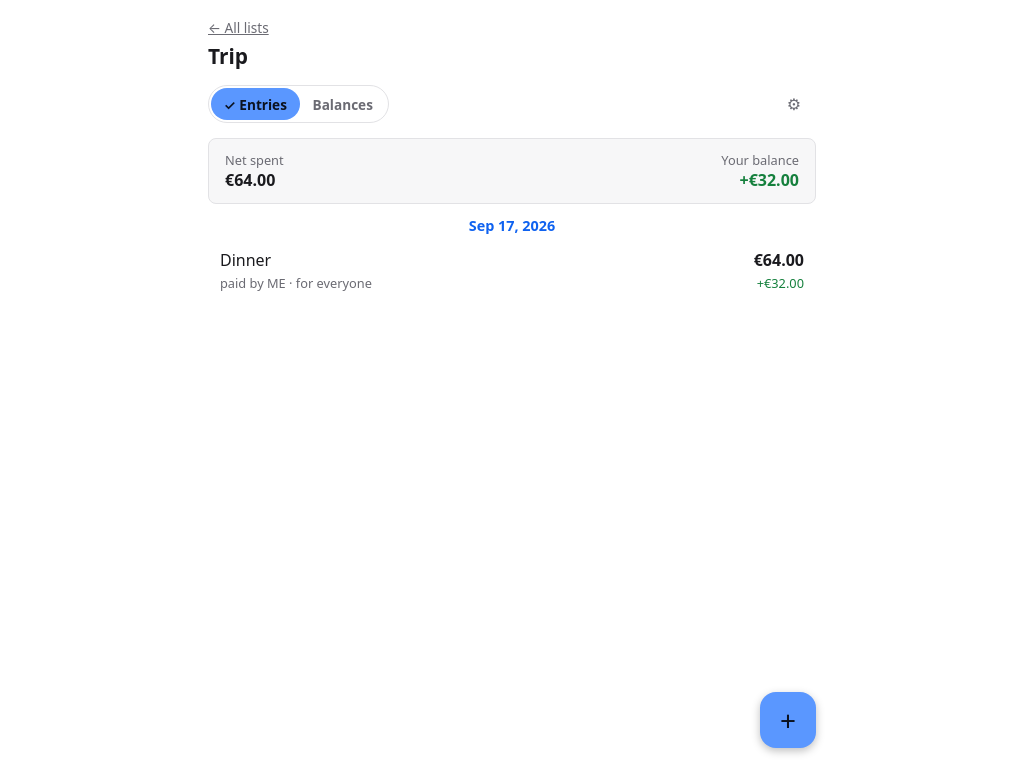
Test: expense list screen › refuses a fully typed split that misses the total, and offers to use the sum
Click the button named "Add entry" at (788, 720), box [760,692,816,748]
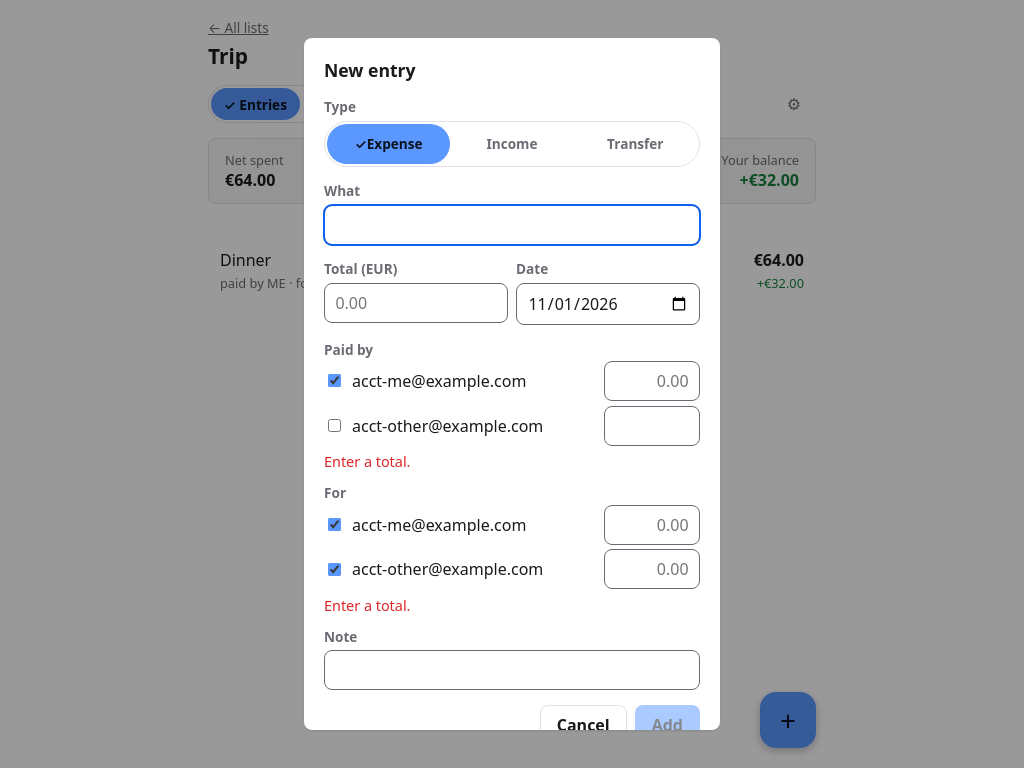
Type "Groceries" into the field labelled "What" at (512, 225), box [324,205,700,245]
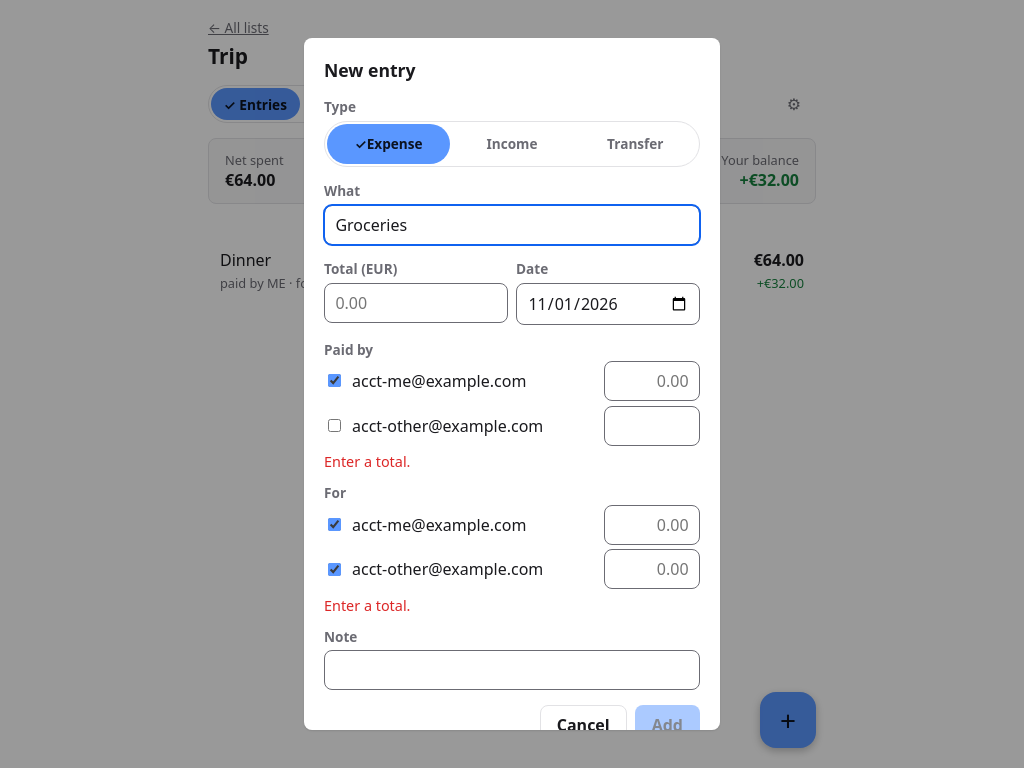
Type "60.00" into the field labelled "Total (EUR)" at (416, 303), box [324,283,508,323]
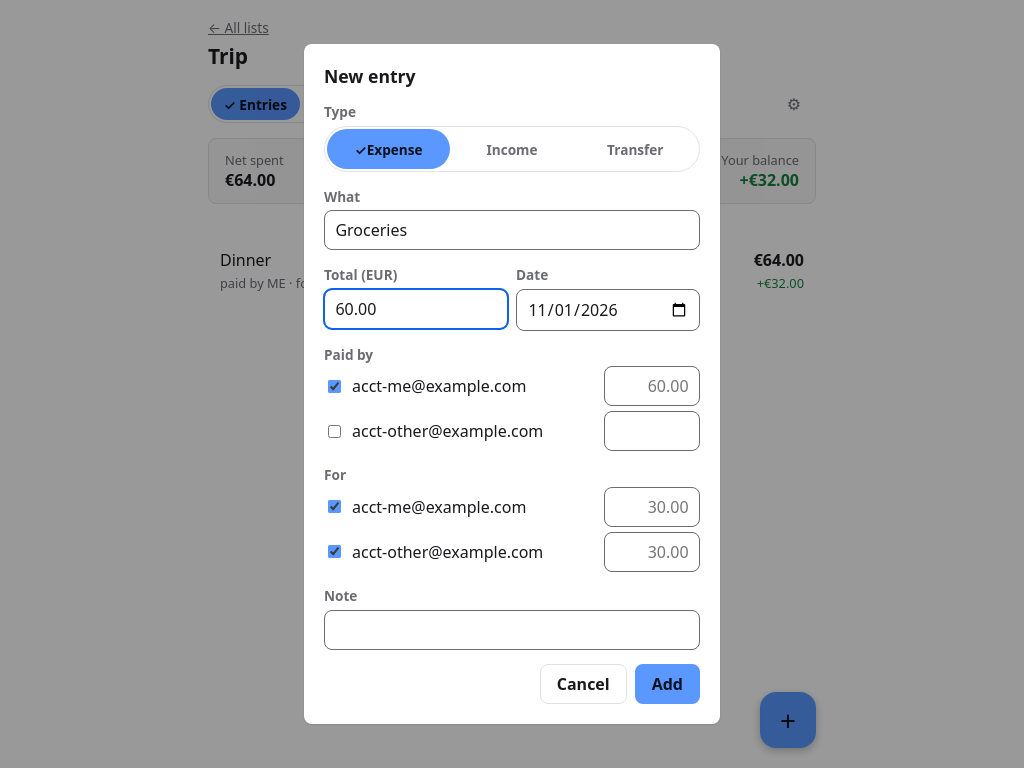
Type "20.00" into the 1st field with placeholder "30.00" at (652, 507), box [604,487,700,527]
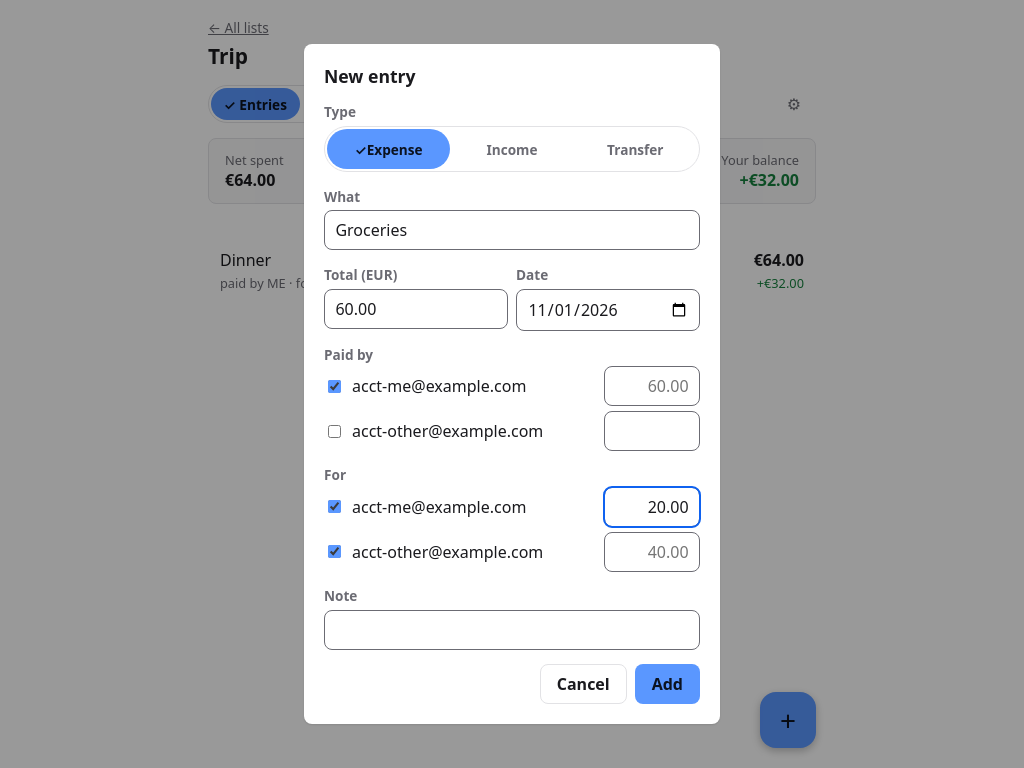
Type "20.00" into the field with placeholder "40.00" at (652, 552), box [604,532,700,572]
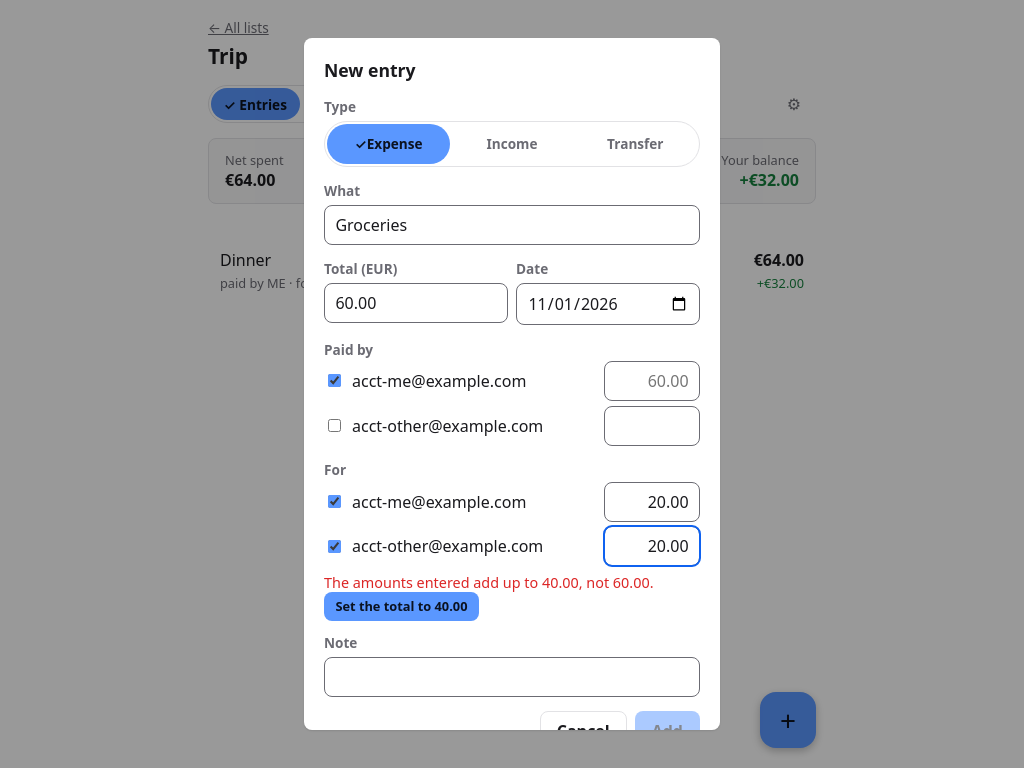
expect the message shows "add up to 40.00, not 60.00": met, box [324,573,654,592]
Click the button "Set the total to 40.00" at (401, 606), box [324,592,479,621]
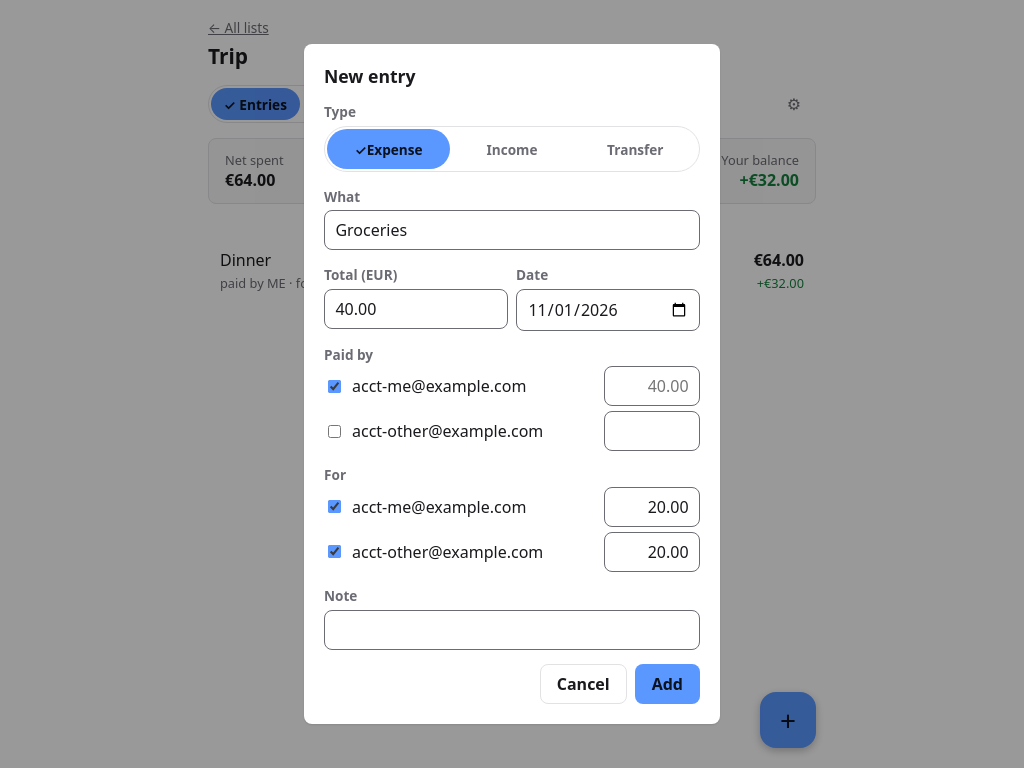
expect the field labelled "Total (EUR)" holds "40.00": met, box [324,288,508,328]
expect the message "The amounts entered add up to 40.00, not 60.00. Set the total to 40.00" is gone: met
